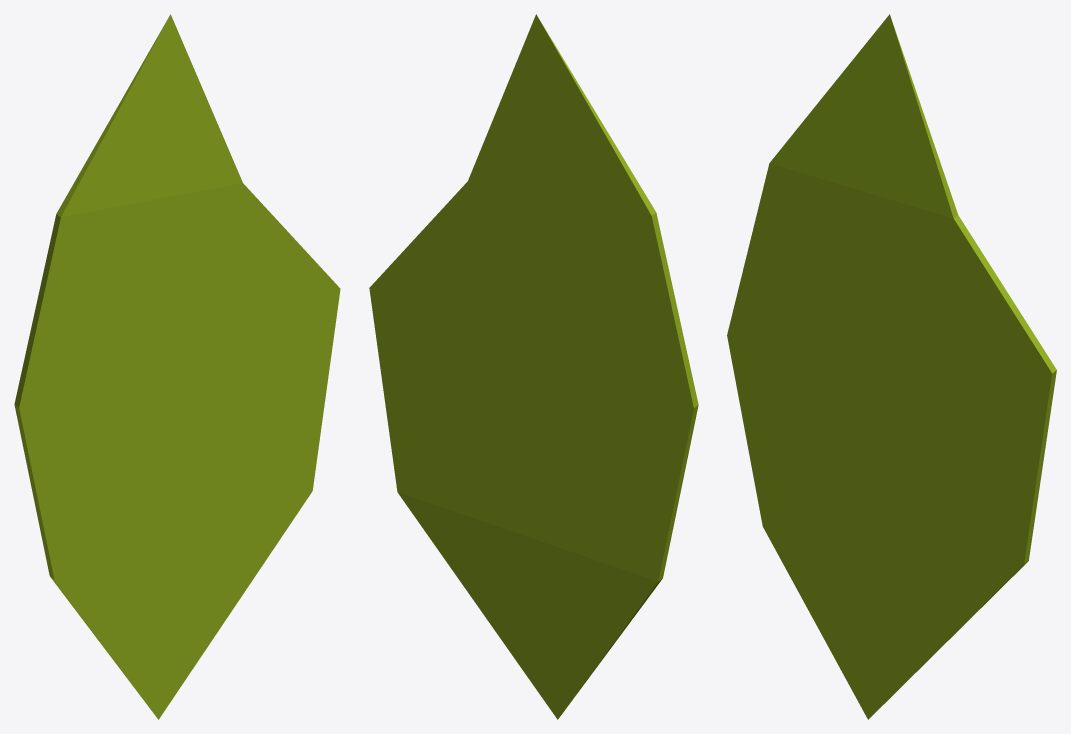
File: Leave_a_02.fbx
3 renders of one model, left to right at view 1: azimuth 30°, elevation 25°; view 2: azimuth 150°, elevation 25°; view 3: azimuth 330°, elevation 25°, orthographic.
Parts seen in each view (by area): view 1: Leave_a_02_LOD0; view 2: Leave_a_02_LOD0; view 3: Leave_a_02_LOD0.
Boxes of the visible parts, x1,y1,x2,y2 form: Leave_a_02_LOD0: (14, 14, 340, 719); Leave_a_02_LOD0: (369, 14, 698, 719); Leave_a_02_LOD0: (727, 14, 1056, 719).
Size of what is drawn, in the model's own units: 1.84 by 3.83 by 0.0463.
